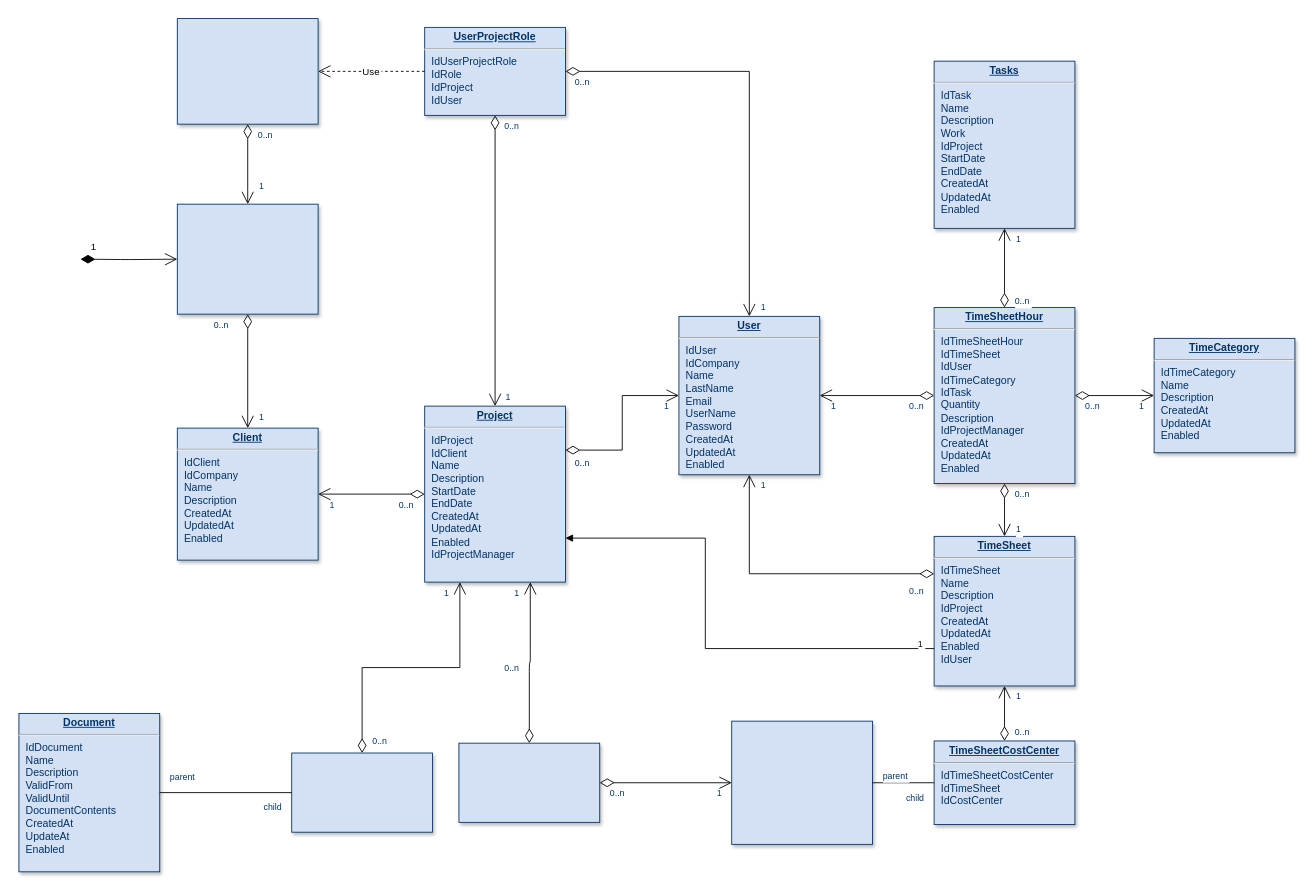
The diagram is 1316 pixels wide and 894 high, and some of its shapes have lost their labels. The shapes that lost their labels are listed below. From the top down, each one's centre as x and y in pixels, then its label:
pixel 248 72: Role IdCompany Name Description CreatedAt UpdatedAt Enabled
pixel 248 260: Company Name Description CreatedAt UpdatedAt Enabled
pixel 362 793: ProjectDocument IdProjectDocument IdProject IdDocument
pixel 530 784: ProjectCostCenter IdProjectCostCenter IdProject IdCostCenter
pixel 802 784: CostCenter IdCostCenter Name Description CreatedAt UpdatedAt Enabled
